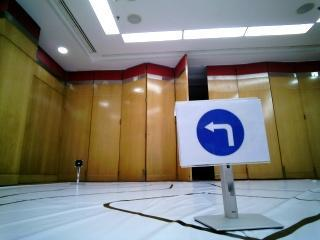left: (180, 103, 263, 163)
